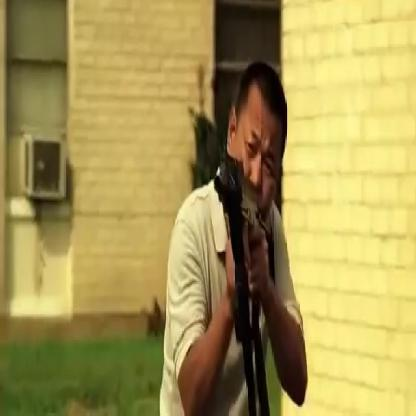Gun: (193, 140, 277, 354)
